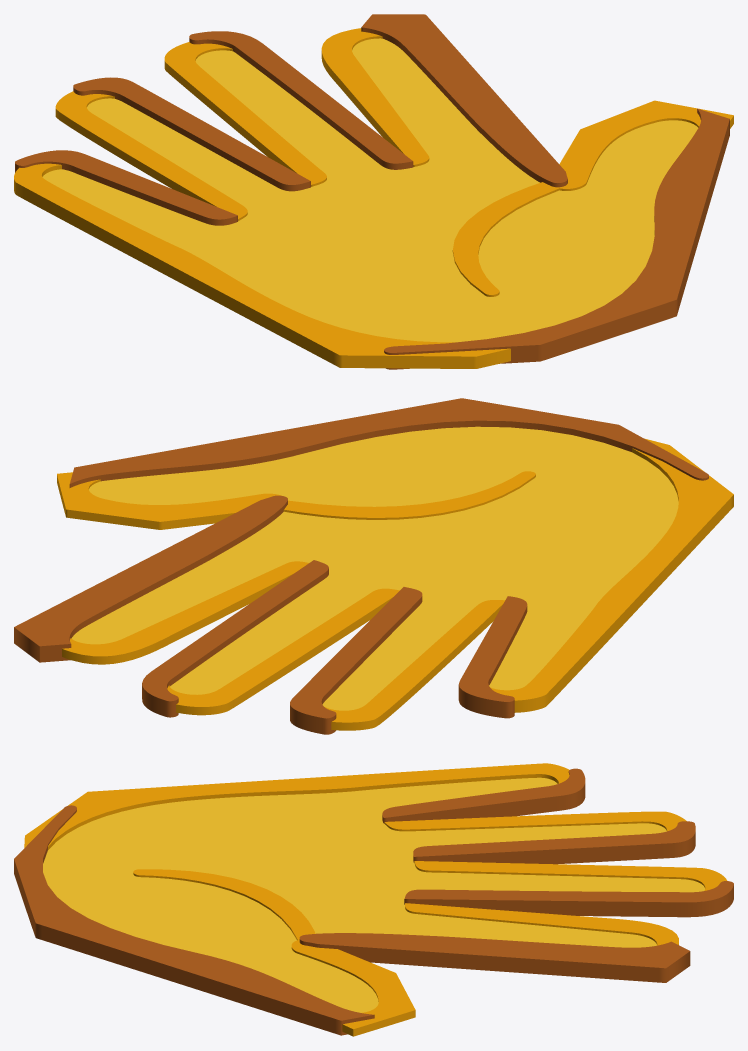
The model's file is emoji_u1f590.glb.
The picture shows the model from 3 angles, top to bottom: view 1: azimuth 30°, elevation 25°; view 2: azimuth 150°, elevation 25°; view 3: azimuth 270°, elevation 25°; orthographic projection. The views are drawn at different scales.
Visible parts, largest first — view 1: emoji_u1f590; view 2: emoji_u1f590; view 3: emoji_u1f590.
Part boxes in pixels (x1,y1,x2,y2): emoji_u1f590: (14, 14, 733, 369); emoji_u1f590: (14, 398, 733, 734); emoji_u1f590: (14, 763, 733, 1036).
Size of the model in its own units: 0.0306 by 0.0008 by 0.0352.
